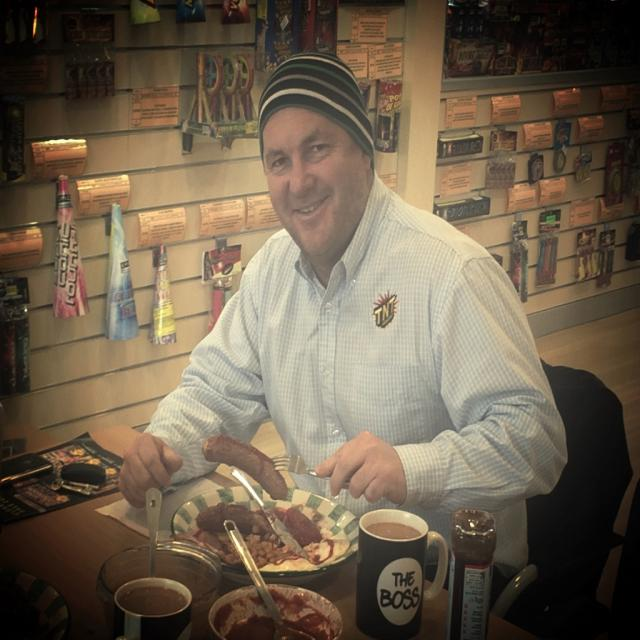Coffee: (355, 512, 437, 625), (112, 578, 186, 614)
